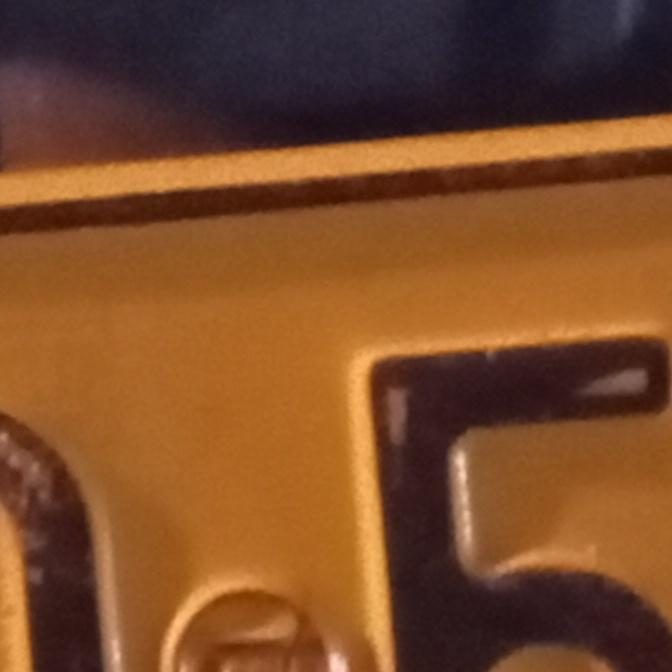plates: (0, 108, 672, 672)
